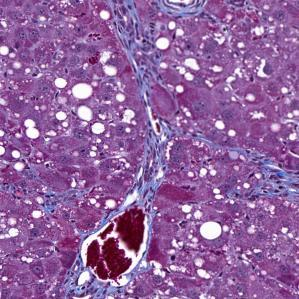fibrosis: (111, 5, 158, 75)
